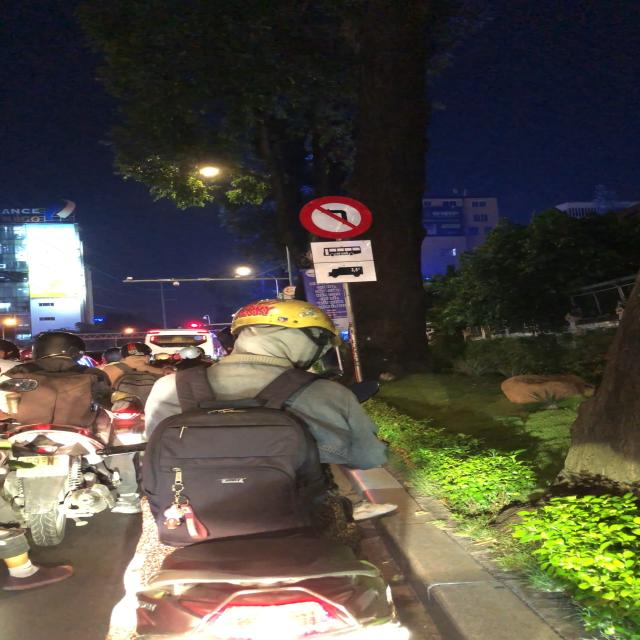Bien bao cam re trai: (297, 196, 374, 240)
